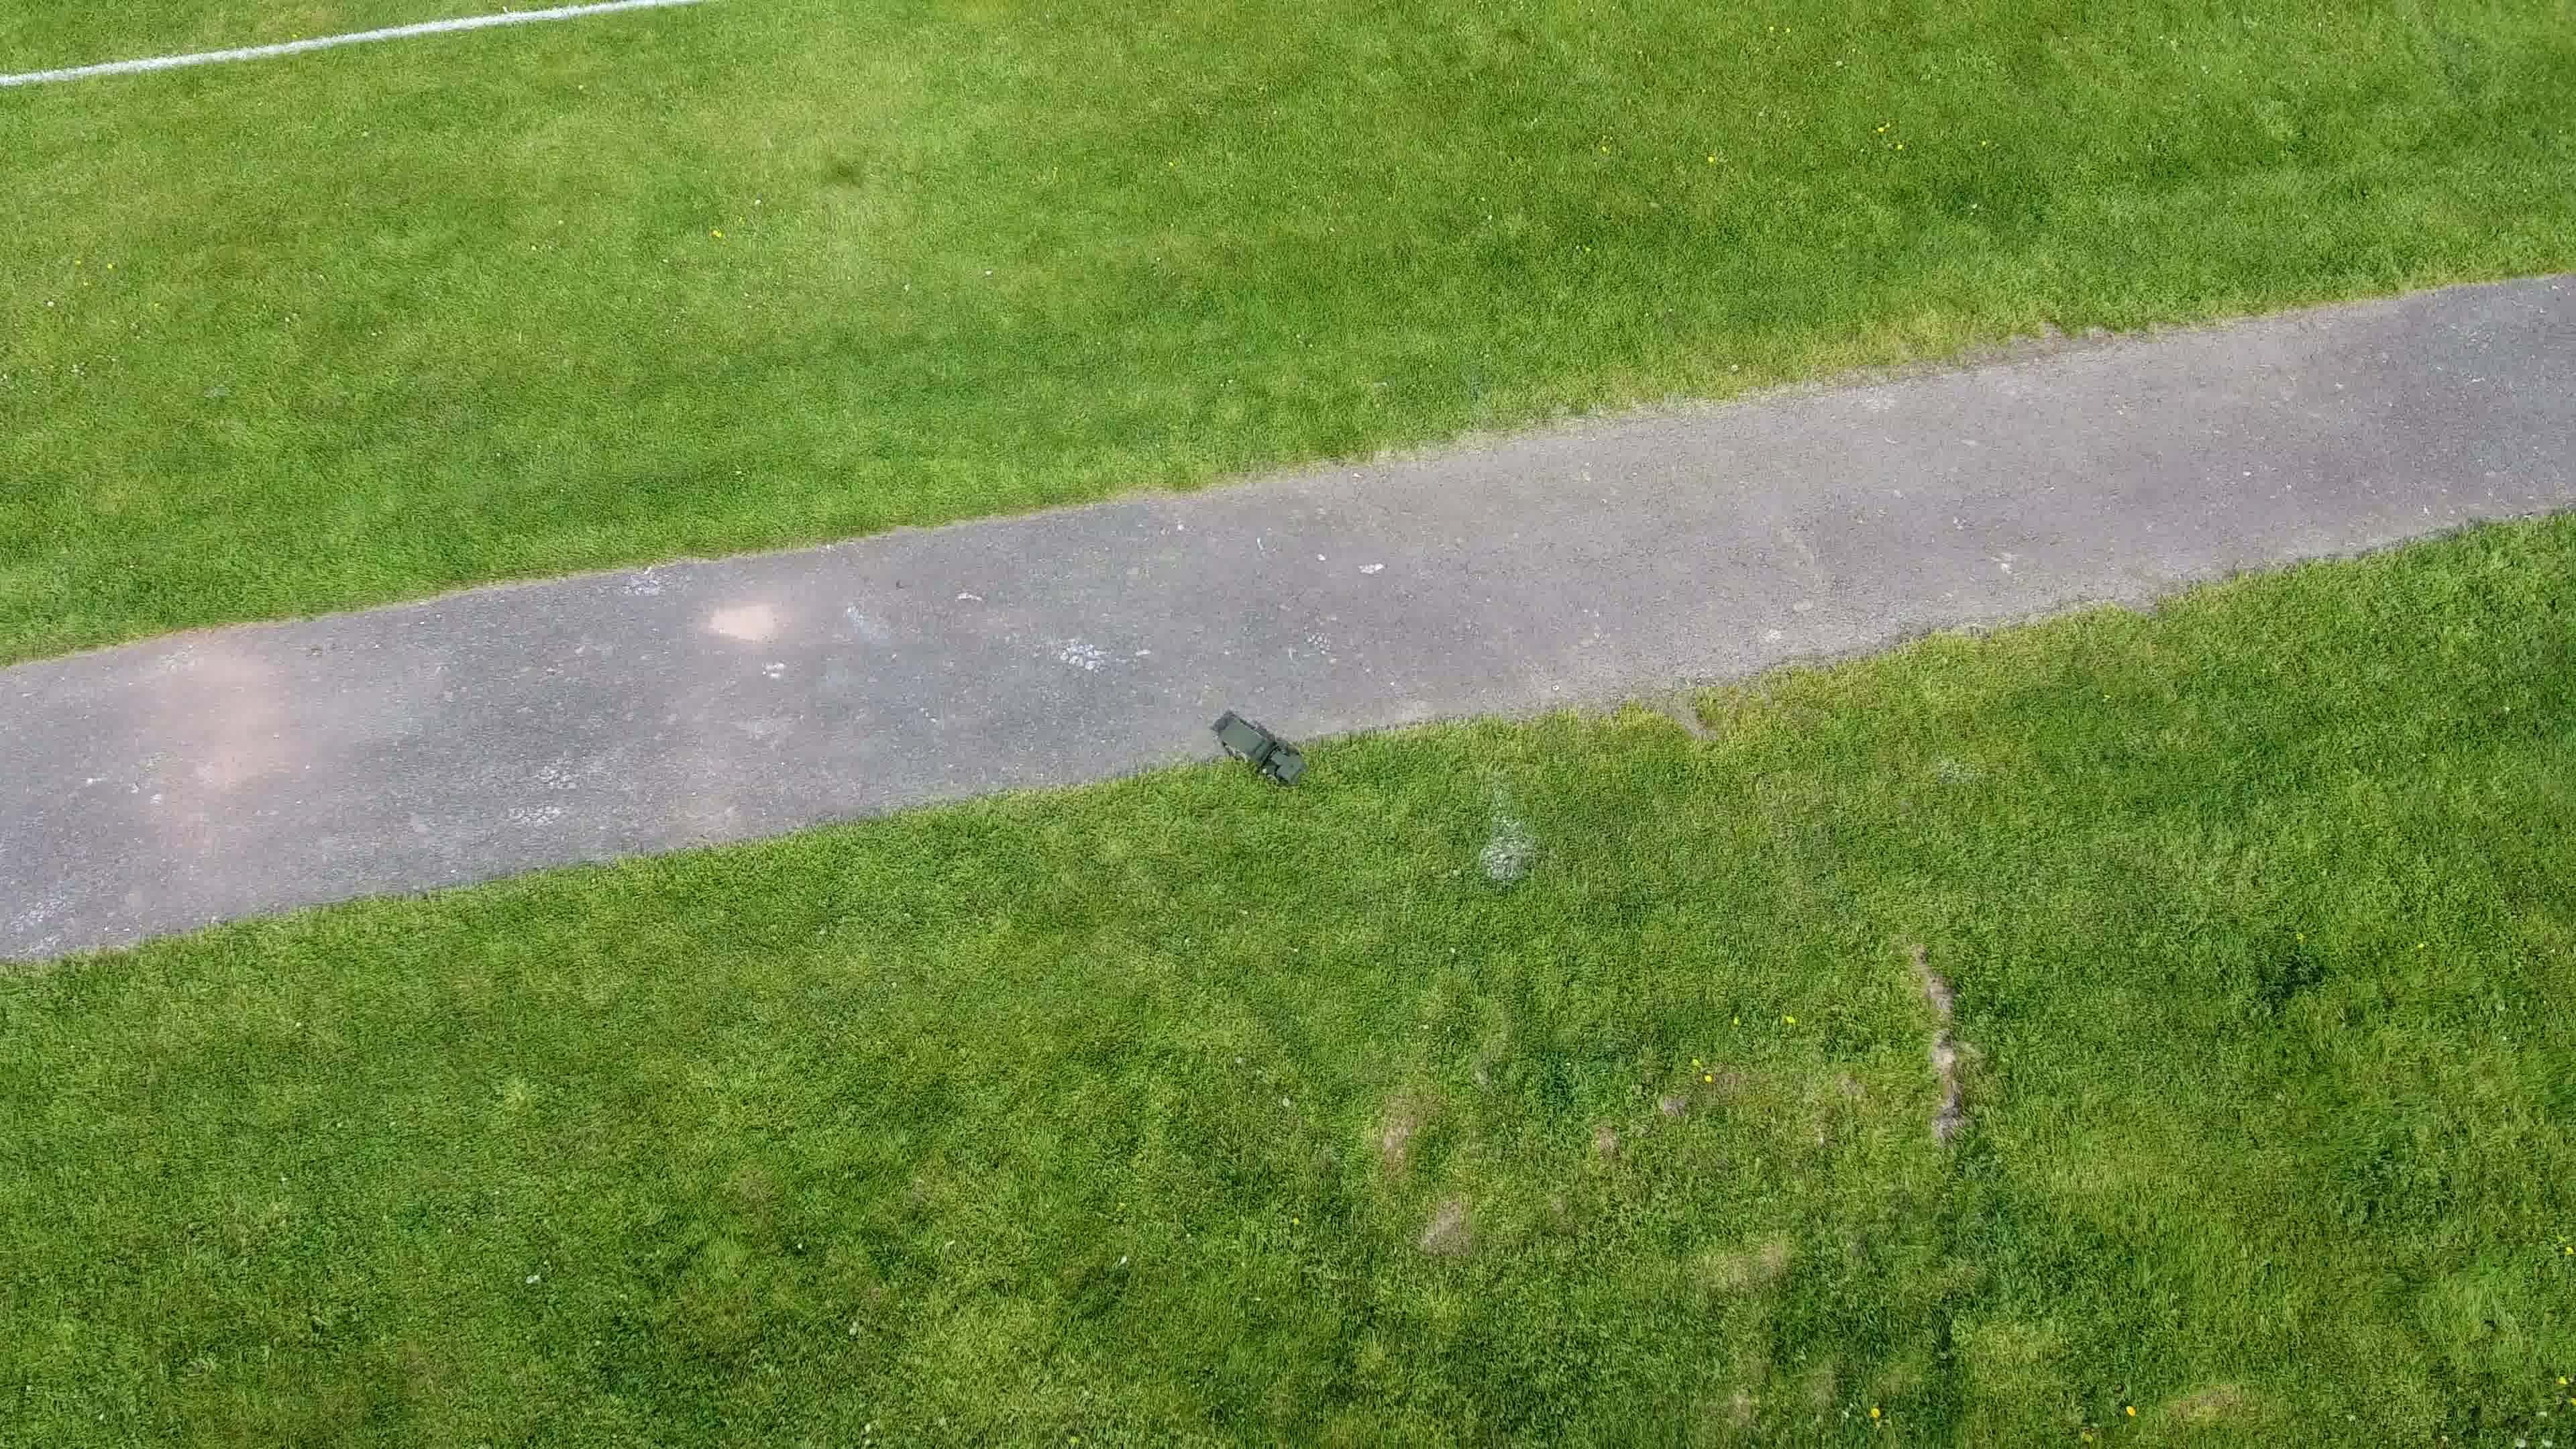transporter9: (1214, 715, 1311, 789)
